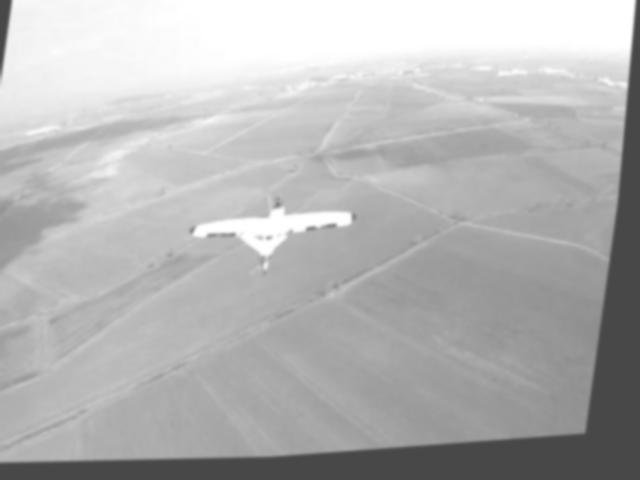hedef: (177, 175, 377, 304)
